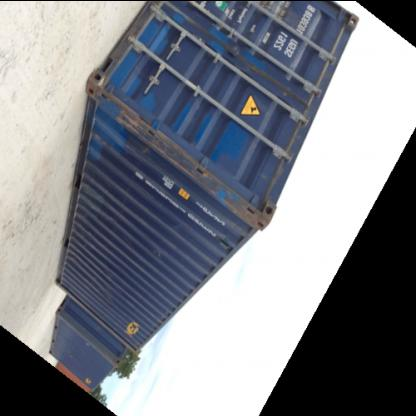Damage: (120, 108, 218, 188), (228, 196, 263, 232), (94, 280, 126, 299), (144, 244, 170, 263), (70, 236, 88, 260)
